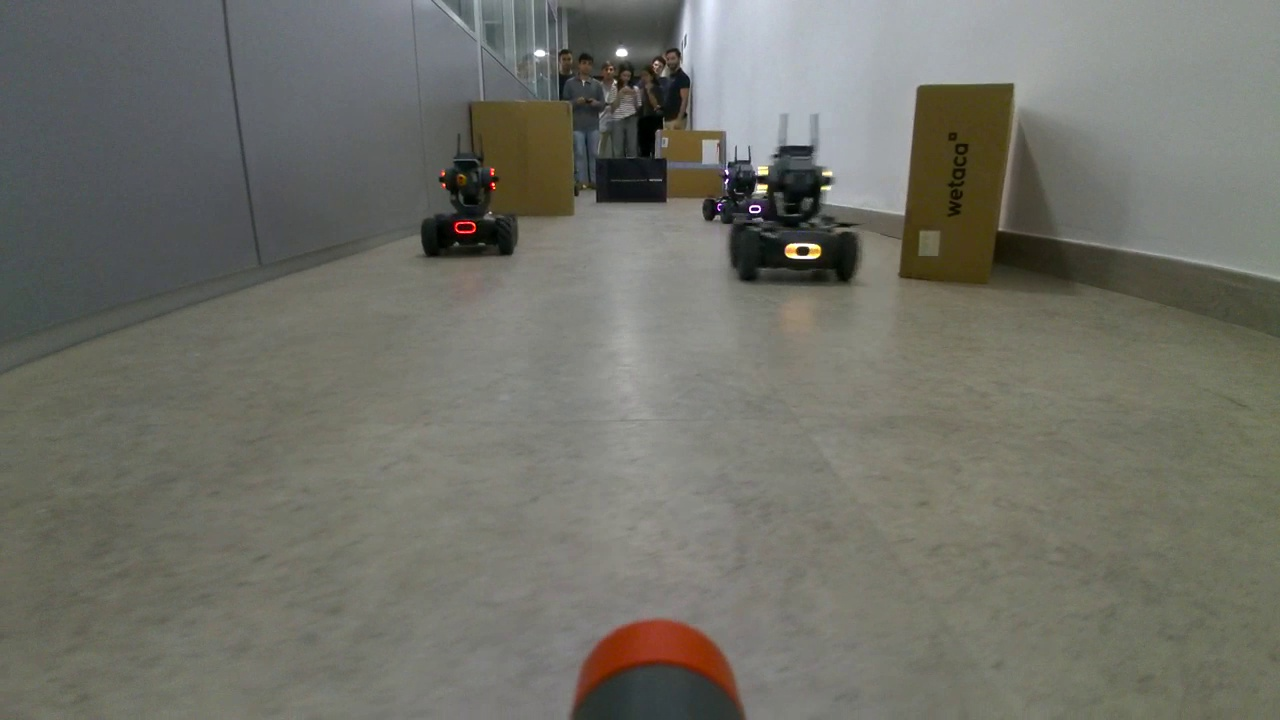robot: (728, 142, 862, 287), (417, 153, 519, 261), (700, 161, 764, 227)
